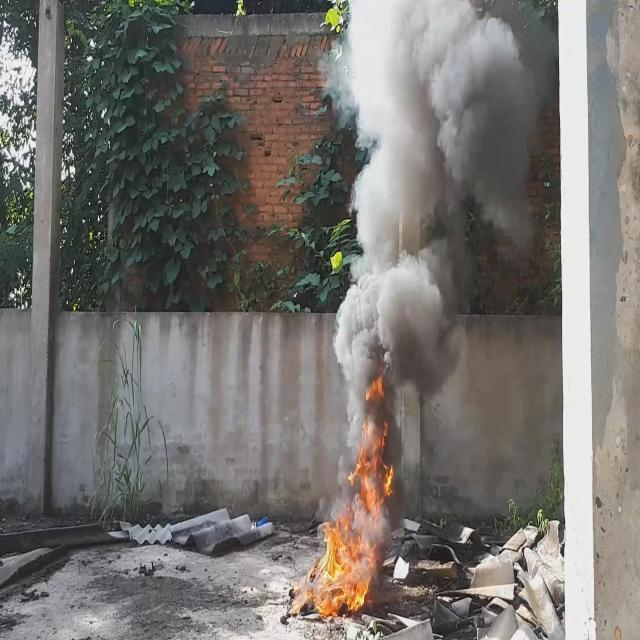Fire: (318, 418, 396, 614)
Smoke: (334, 0, 541, 520)
